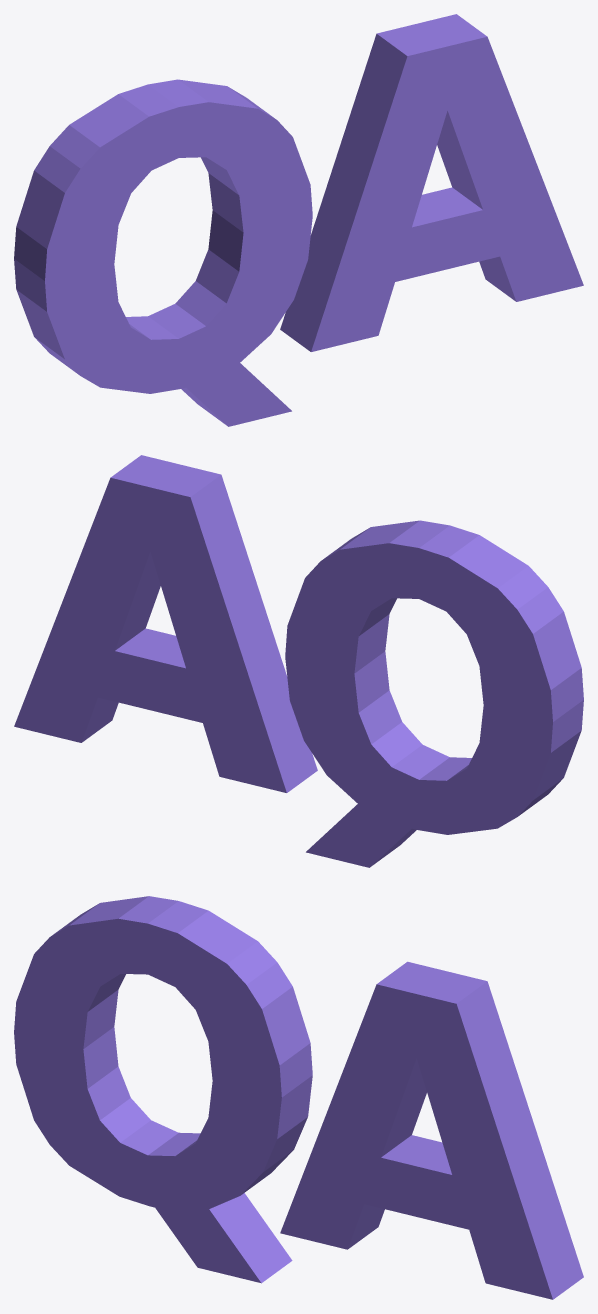
File: suku_besar_qa.glb
The picture shows the model from 3 angles, top to bottom: view 1: azimuth 30°, elevation 25°; view 2: azimuth 150°, elevation 25°; view 3: azimuth 330°, elevation 25°; orthographic projection.
Visible parts, largest first — view 1: geometry_0; view 2: geometry_0; view 3: geometry_0.
Part boxes in pixels (bbox=[...]): geometry_0: bbox=[14, 14, 583, 426]; geometry_0: bbox=[14, 455, 583, 867]; geometry_0: bbox=[14, 896, 583, 1299].
Size of the model in its own units: 15.09 by 8.88 by 1.5.
